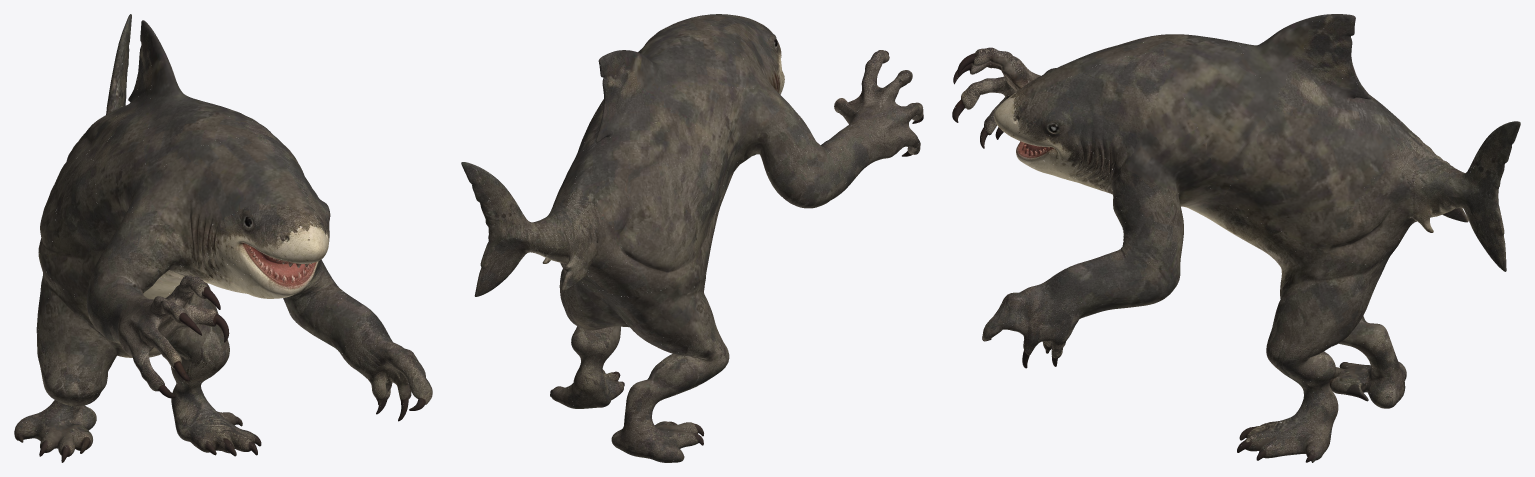
File: mostro_squalo_A.glb
The picture shows the model from 3 angles, left to right: view 1: azimuth 30°, elevation 25°; view 2: azimuth 150°, elevation 25°; view 3: azimuth 270°, elevation 25°; orthographic projection. The views are drawn at different scales.
Visible parts, largest first — view 1: mostro_squalo_A; view 2: mostro_squalo_A; view 3: mostro_squalo_A.
Part boxes in pixels (box(x1,y1,x2,y2)): mostro_squalo_A: box(14, 14, 432, 462); mostro_squalo_A: box(461, 14, 923, 462); mostro_squalo_A: box(952, 14, 1520, 462).
Bounding box in the file's own units: 1.63 × 2.2 × 2.74.
Materials: 1 (1 with a texture image).
